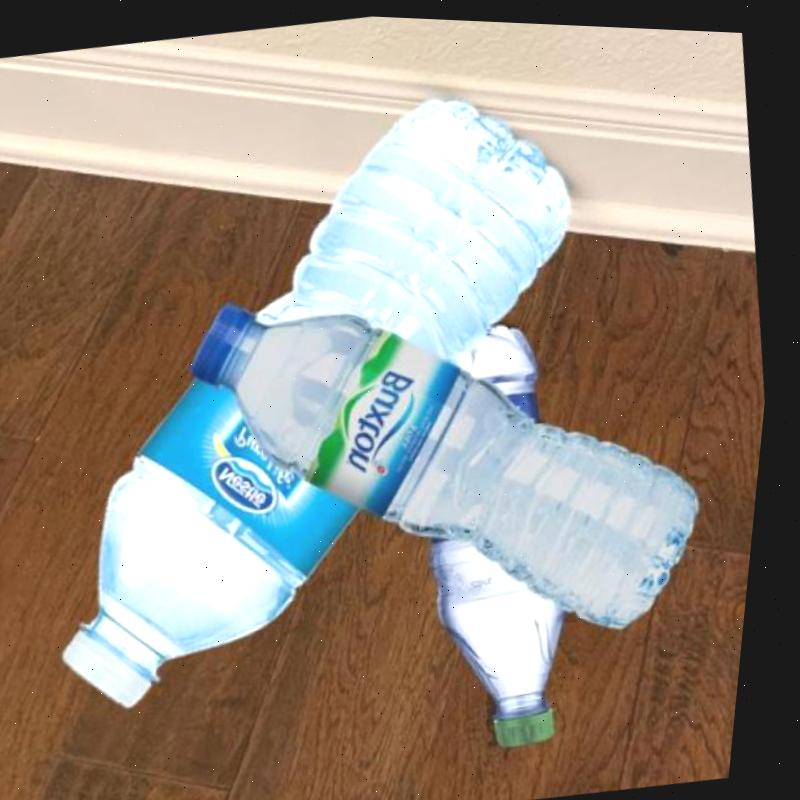botella: (0, 57, 663, 736), (165, 228, 744, 690), (387, 307, 614, 754)
